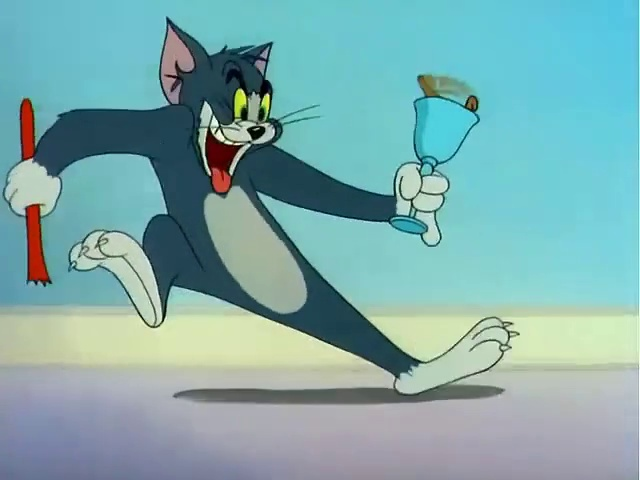tom: (14, 8, 498, 412)
